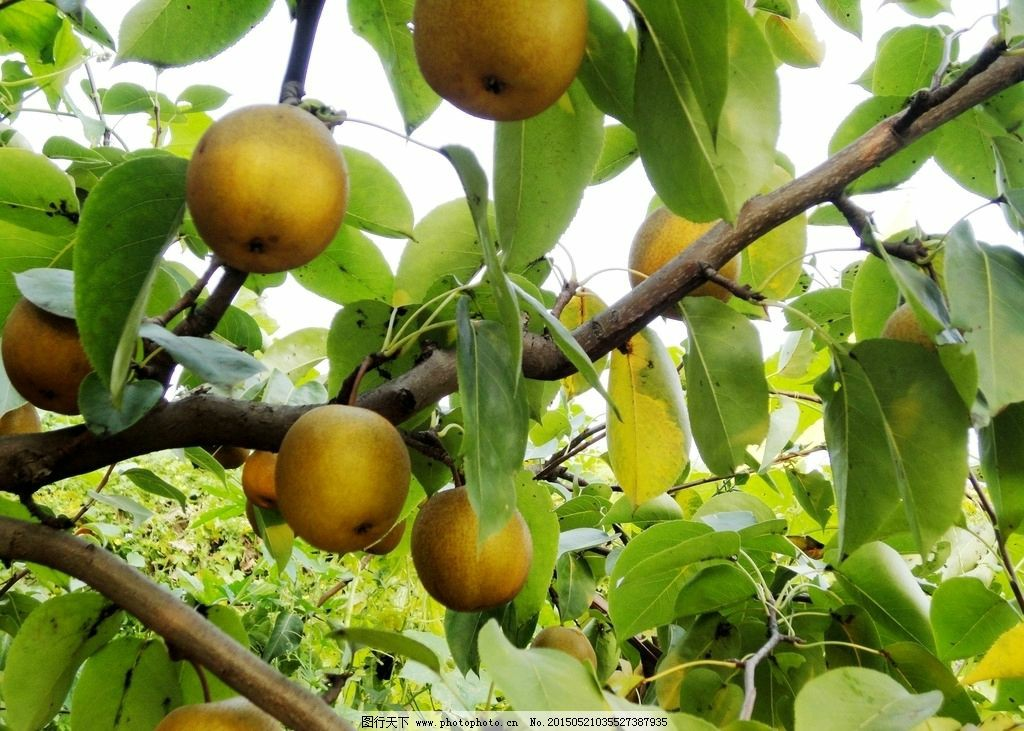pear: (186, 103, 350, 273), (411, 1, 584, 120), (276, 402, 411, 554), (4, 264, 139, 415), (413, 476, 532, 609), (629, 206, 741, 321), (243, 445, 291, 512)
